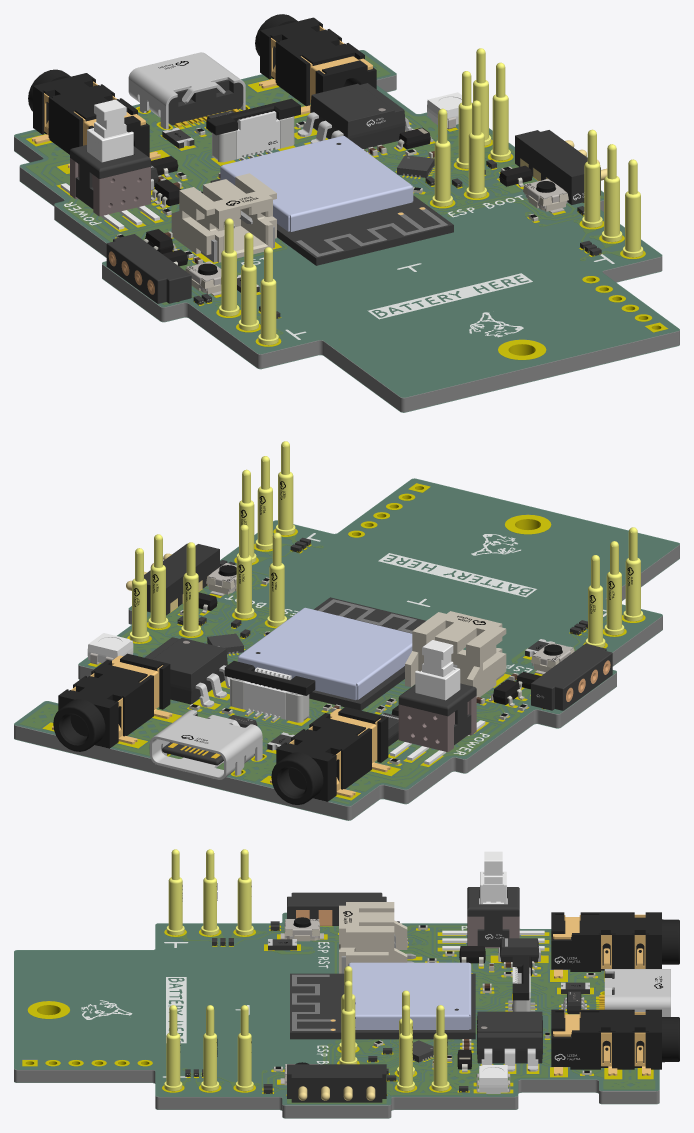
Rendered from core.glb.
3 renders of one model, top to bottom at view 1: azimuth 30°, elevation 25°; view 2: azimuth 150°, elevation 25°; view 3: azimuth 270°, elevation 25°, orthographic. The views are drawn at different scales.
Parts seen in each view (by area): view 1: =>[0:1:1:26], =>[0:1:1:27], U8, =>[0:1:1:24], CN15, U4, H2, USBC1, CN16, U5, FPC1, CN4 (+18 smaller); view 2: =>[0:1:1:26], =>[0:1:1:27], U8, =>[0:1:1:24], CN15, CN16, U4, USBC1, H2, FPC1, U5, CN4 (+17 smaller); view 3: =>[0:1:1:26], =>[0:1:1:27], U8, =>[0:1:1:24], CN15, CN16, U4, H2, U9, U5, USBC1, CN4 (+16 smaller).
Part boxes in pixels (x1,y1,x2,y2): =>[0:1:1:26]: (14,50,679,412); =>[0:1:1:27]: (14,51,679,412); U8: (210,136,453,265); =>[0:1:1:24]: (20,56,667,359); CN15: (255,14,376,114); U4: (60,99,159,229); H2: (171,173,276,262); USBC1: (128,52,245,129); CN16: (28,69,160,167); U5: (297,83,414,149); FPC1: (206,98,300,162); CN4: (106,234,191,303); =>[0:1:1:26]: (14,478,679,820); =>[0:1:1:27]: (14,479,679,820); U8: (238,597,425,710); =>[0:1:1:24]: (20,483,645,803); CN15: (52,653,172,751); CN16: (270,707,390,804); U4: (390,640,485,764); USBC1: (149,710,262,779); H2: (405,611,506,697); FPC1: (224,661,315,722); U5: (145,637,229,707); CN4: (531,643,612,710); =>[0:1:1:26]: (14,912,659,1118); =>[0:1:1:27]: (14,913,659,1118); U8: (290,962,475,1039); =>[0:1:1:24]: (22,925,654,1103); CN15: (551,1009,679,1075); CN16: (551,912,679,978); U4: (442,851,544,950); H2: (339,902,415,973); U9: (287,1064,386,1102); U5: (477,1011,542,1071); USBC1: (599,969,670,1016); CN4: (287,892,386,925).
Bounding box in the file's own units: 0.0517 × 0.0121 × 0.0734.
